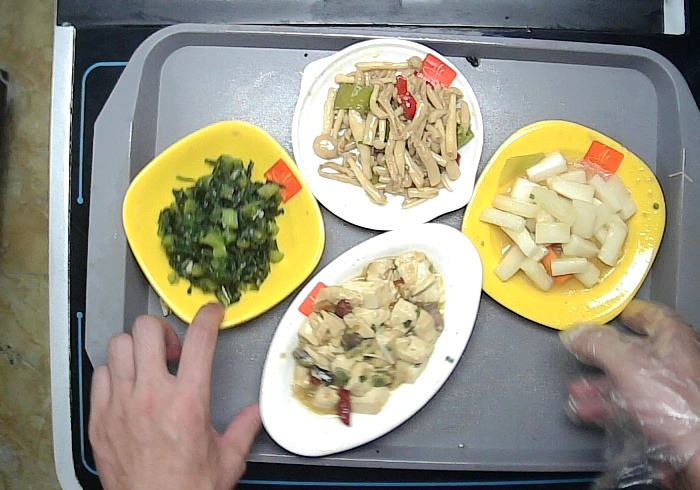SHKJ-Bao_Yu_Pan: (288, 33, 488, 233)
SHKJ-Huang_Se_Cai_Die: (120, 115, 329, 336)
SHKJ-Huang_Se_Si_Fang_Cai_Die: (457, 112, 664, 340)
SHKJ-Yu_Pan: (255, 218, 486, 463)
